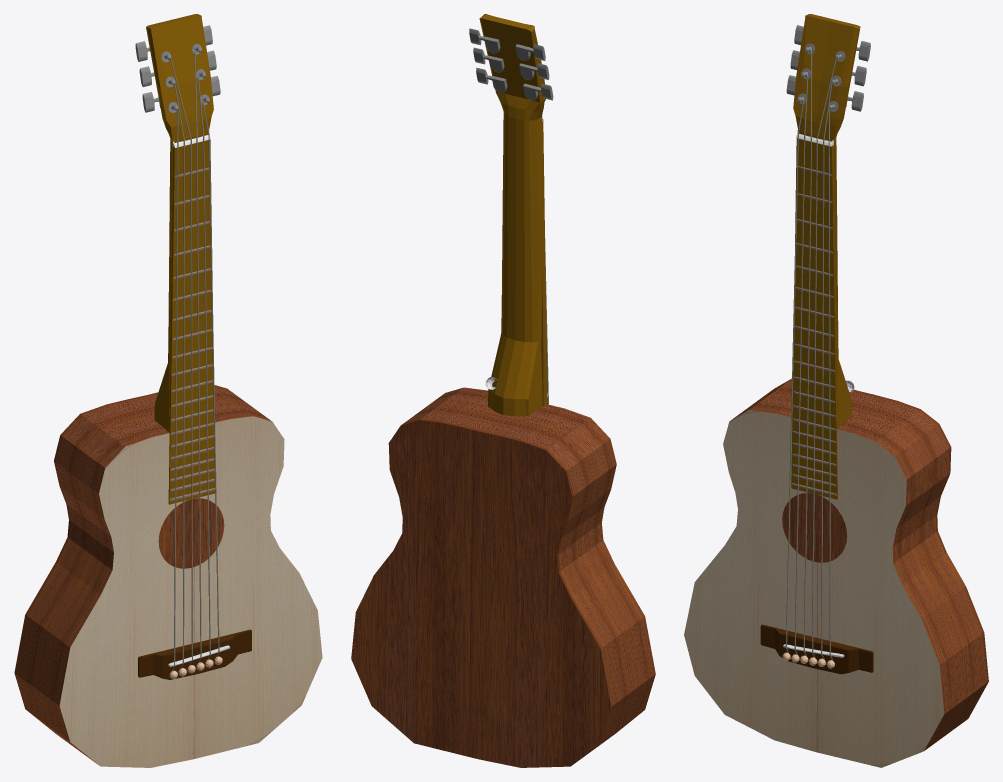
File: acoustic_guitar.glb
The picture shows the model from 3 angles, left to right: view 1: azimuth 30°, elevation 25°; view 2: azimuth 150°, elevation 25°; view 3: azimuth 330°, elevation 25°; orthographic projection.
Visible parts, largest first — view 1: Circle, Cube, Cylinder, Cube.003, Cube.002, Circle.009, Circle.013, Circle.012; view 2: Circle, Cube, Circle.009, Circle.013, Circle.012; view 3: Circle, Cube, Cylinder, Cube.003, Cube.002, Circle.009, Circle.012, Circle.013.
Boxes of the visible parts, left/top/right/bottom form: Circle: left=14, top=385, right=322, bottom=767; Cube: left=146, top=14, right=215, bottom=504; Cylinder: left=170, top=50, right=219, bottom=670; Cube.003: left=138, top=629, right=251, bottom=679; Cube.002: left=169, top=167, right=215, bottom=500; Circle.009: left=142, top=76, right=220, bottom=112; Circle.013: left=135, top=25, right=212, bottom=62; Circle.012: left=139, top=50, right=216, bottom=87; Circle: left=351, top=387, right=655, bottom=767; Cube: left=479, top=14, right=547, bottom=416; Circle.009: left=476, top=67, right=553, bottom=100; Circle.013: left=469, top=28, right=545, bottom=61; Circle.012: left=473, top=47, right=549, bottom=80; Circle: left=684, top=378, right=988, bottom=767; Cube: left=791, top=14, right=860, bottom=499; Cylinder: left=785, top=49, right=836, bottom=660; Cube.003: left=760, top=624, right=873, bottom=674; Cube.002: left=791, top=166, right=836, bottom=495; Circle.009: left=786, top=75, right=863, bottom=111; Circle.012: left=790, top=50, right=866, bottom=86; Circle.013: left=794, top=25, right=870, bottom=61.
Bounding box in the file's own units: 0.3782 × 1.01 × 0.1301.
Materials: 9 (2 with a texture image).
